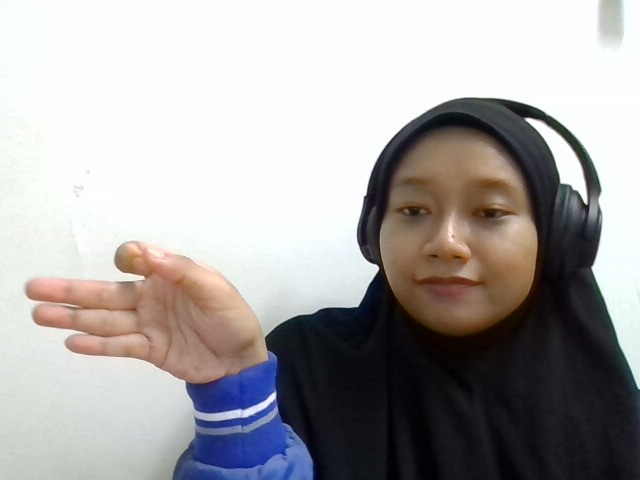Angsa: (25, 240, 268, 384)
